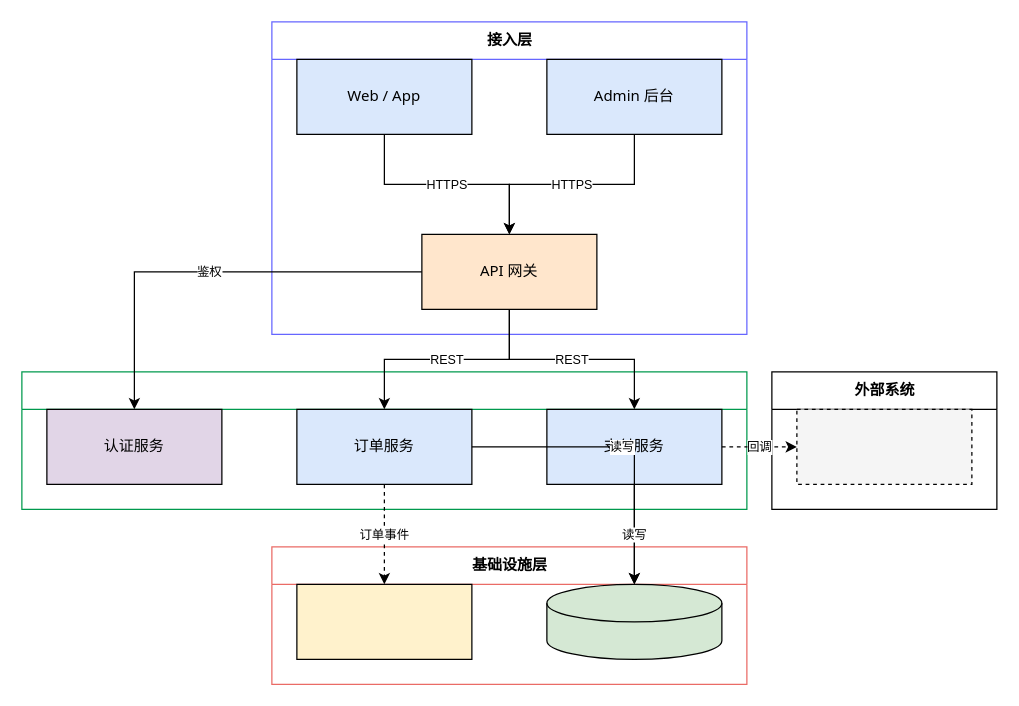
Some shapes in this 1019 by 706 pixel diagram are drawn without their labels. Here are the shapes that lost their labels. From the top down, the box of each, then its label:
(21, 371, 747, 509): 业务层
(796, 408, 972, 484): 第三方支付
(296, 583, 472, 659): Kafka
(546, 583, 722, 659): MySQL 集群
